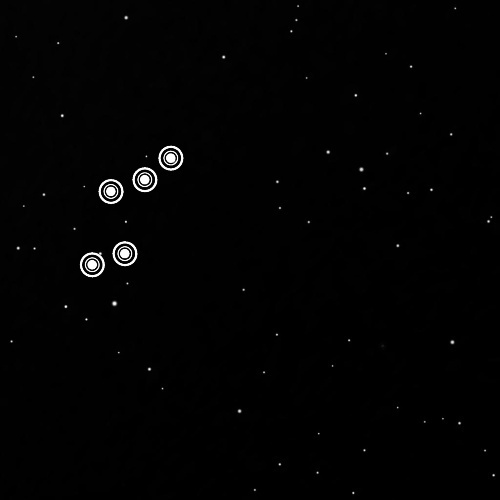lyra: (69, 127, 193, 292)
